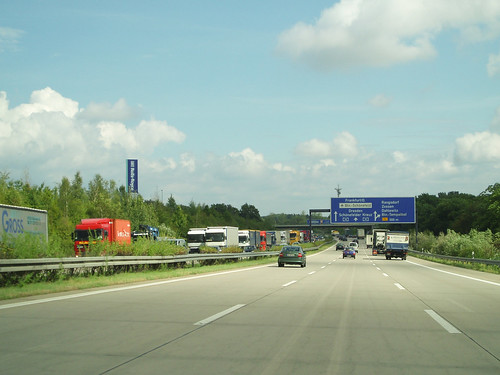car: (277, 241, 308, 271)
road: (4, 256, 500, 372)
sign: (330, 194, 422, 230)
sky: (1, 1, 493, 187)
truck: (68, 216, 135, 255), (184, 224, 240, 248)
vegetation: (1, 188, 265, 262), (418, 193, 499, 257)
